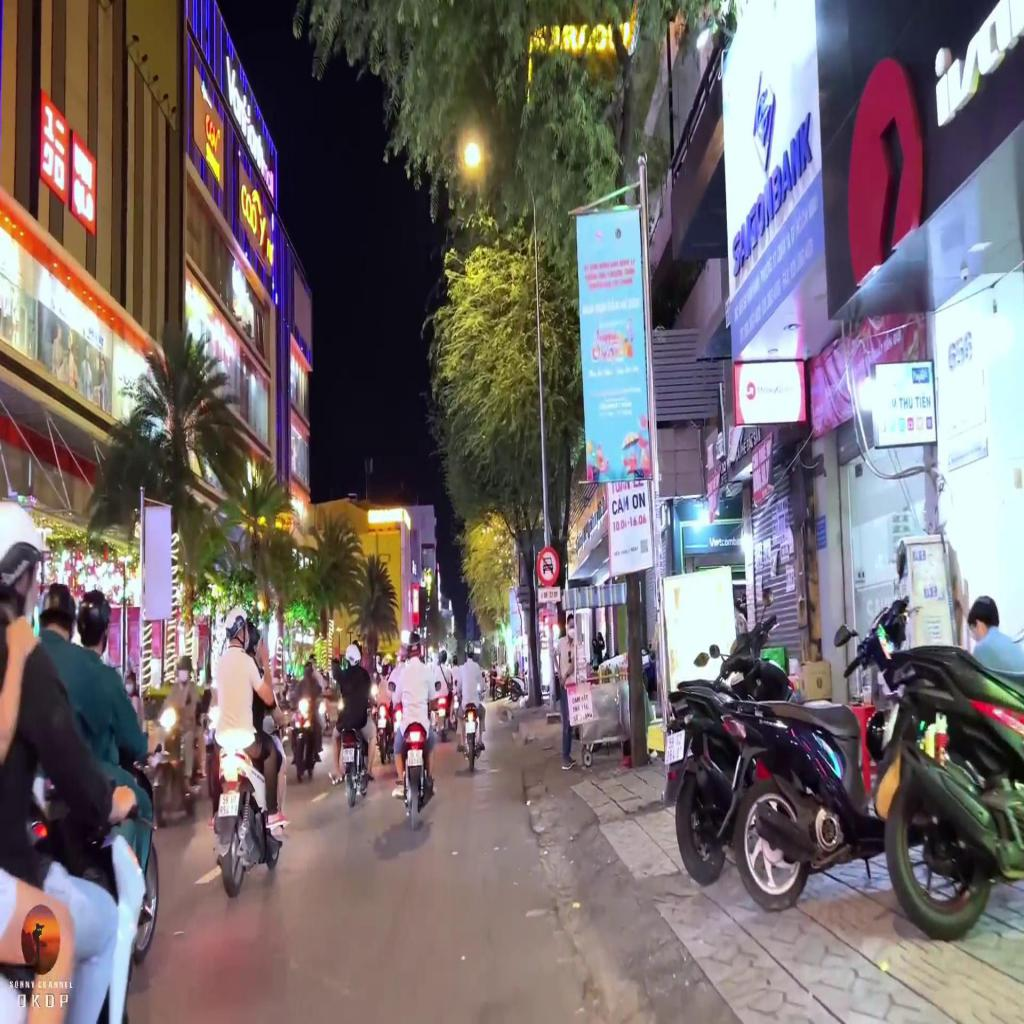cam_o_to: (536, 546, 558, 585)
khac: (538, 587, 560, 601)
